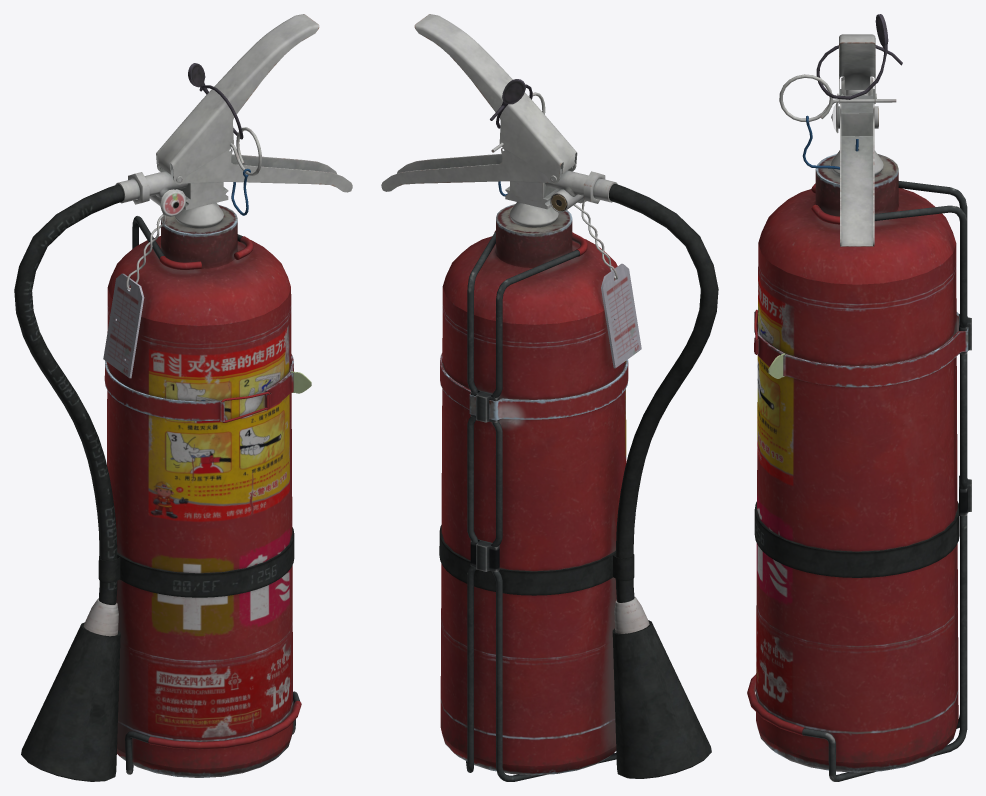
File: fire-extinguisher-4k.3fa834b2.glb
3 renders of one model, left to right at view 1: azimuth 30°, elevation 25°; view 2: azimuth 150°, elevation 25°; view 3: azimuth 270°, elevation 25°, orthographic. The views are drawn at different scales.
Visible parts, largest first — view 1: TL_miehuoqi_low_uv_005; view 2: TL_miehuoqi_low_uv_005; view 3: TL_miehuoqi_low_uv_005.
Part boxes in pixels (x1,y1,x2,y2): TL_miehuoqi_low_uv_005: (14,14,352,781); TL_miehuoqi_low_uv_005: (381,14,718,781); TL_miehuoqi_low_uv_005: (747,14,971,781).
Bounding box in the file's own units: 0.3017 × 0.6146 × 0.1654.
Materials: 1 (1 with a texture image).
